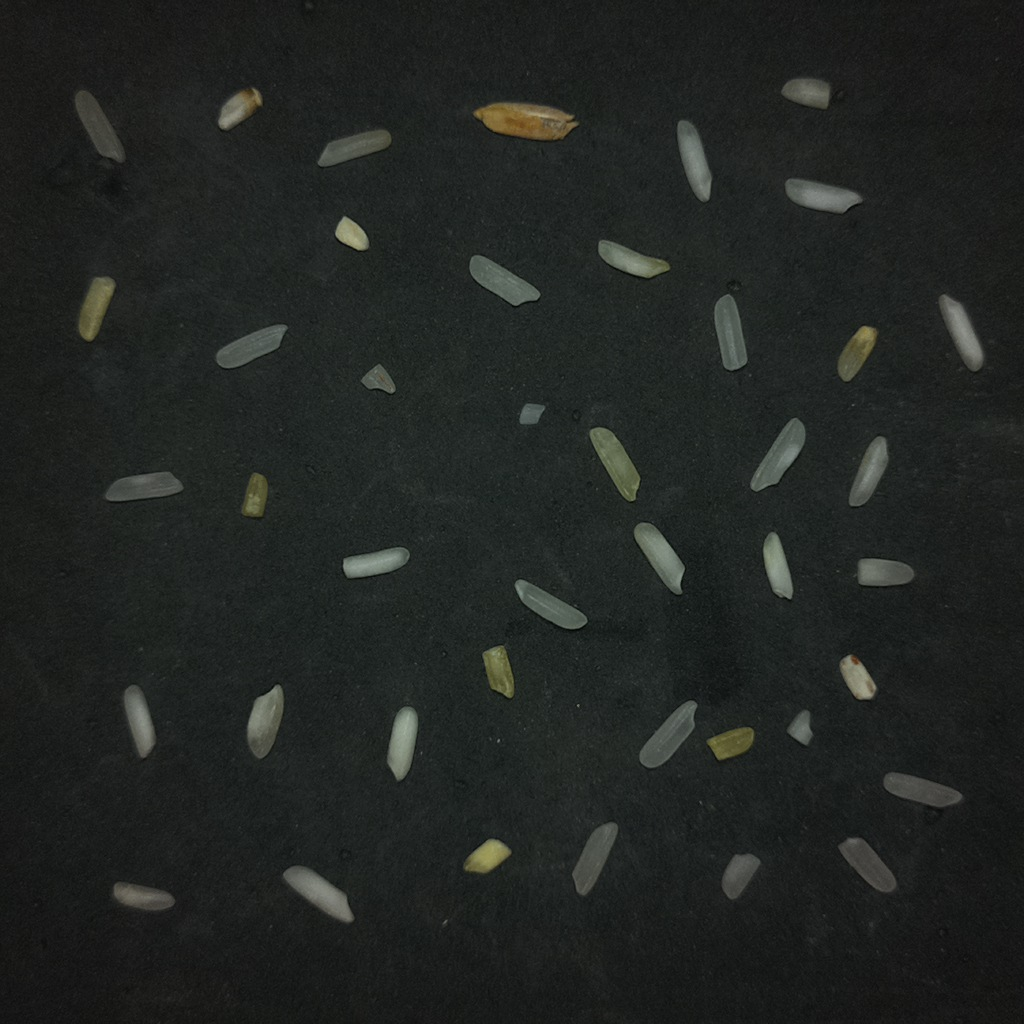broken: (848, 437, 888, 506), (598, 240, 669, 278), (785, 178, 862, 213), (112, 882, 174, 911), (722, 855, 760, 899), (858, 558, 914, 586), (781, 77, 830, 109), (335, 216, 368, 250), (361, 364, 395, 393), (786, 709, 812, 745), (519, 403, 545, 424)
chalky: (282, 865, 353, 922), (634, 522, 684, 594), (938, 294, 983, 371), (247, 684, 284, 759), (123, 684, 155, 758), (387, 706, 417, 780), (342, 547, 409, 578), (763, 533, 793, 599), (839, 655, 876, 699)
discolored: (474, 102, 577, 140), (589, 427, 639, 501), (78, 276, 115, 341), (838, 326, 877, 381), (218, 87, 261, 130), (482, 645, 514, 698), (463, 838, 510, 873), (707, 728, 754, 760), (241, 472, 267, 517)
whole: (750, 419, 805, 491), (639, 700, 696, 768), (74, 89, 124, 162), (515, 579, 587, 629), (469, 254, 539, 305), (572, 822, 618, 895), (838, 837, 896, 892), (215, 324, 287, 368), (317, 129, 391, 167), (677, 120, 711, 201), (883, 773, 961, 807), (714, 294, 746, 370), (104, 472, 183, 502)
